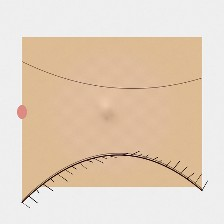corneal_ulcer: (81, 82, 137, 127)
